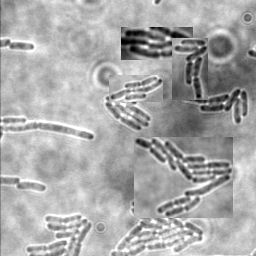Dividing: (1, 123, 95, 142), (8, 41, 35, 52)
Microcolony: (134, 137, 233, 218), (109, 200, 205, 255), (25, 212, 94, 255), (121, 27, 193, 60), (184, 89, 248, 126), (172, 38, 208, 100), (103, 96, 150, 132), (109, 75, 163, 102), (16, 182, 48, 193)
